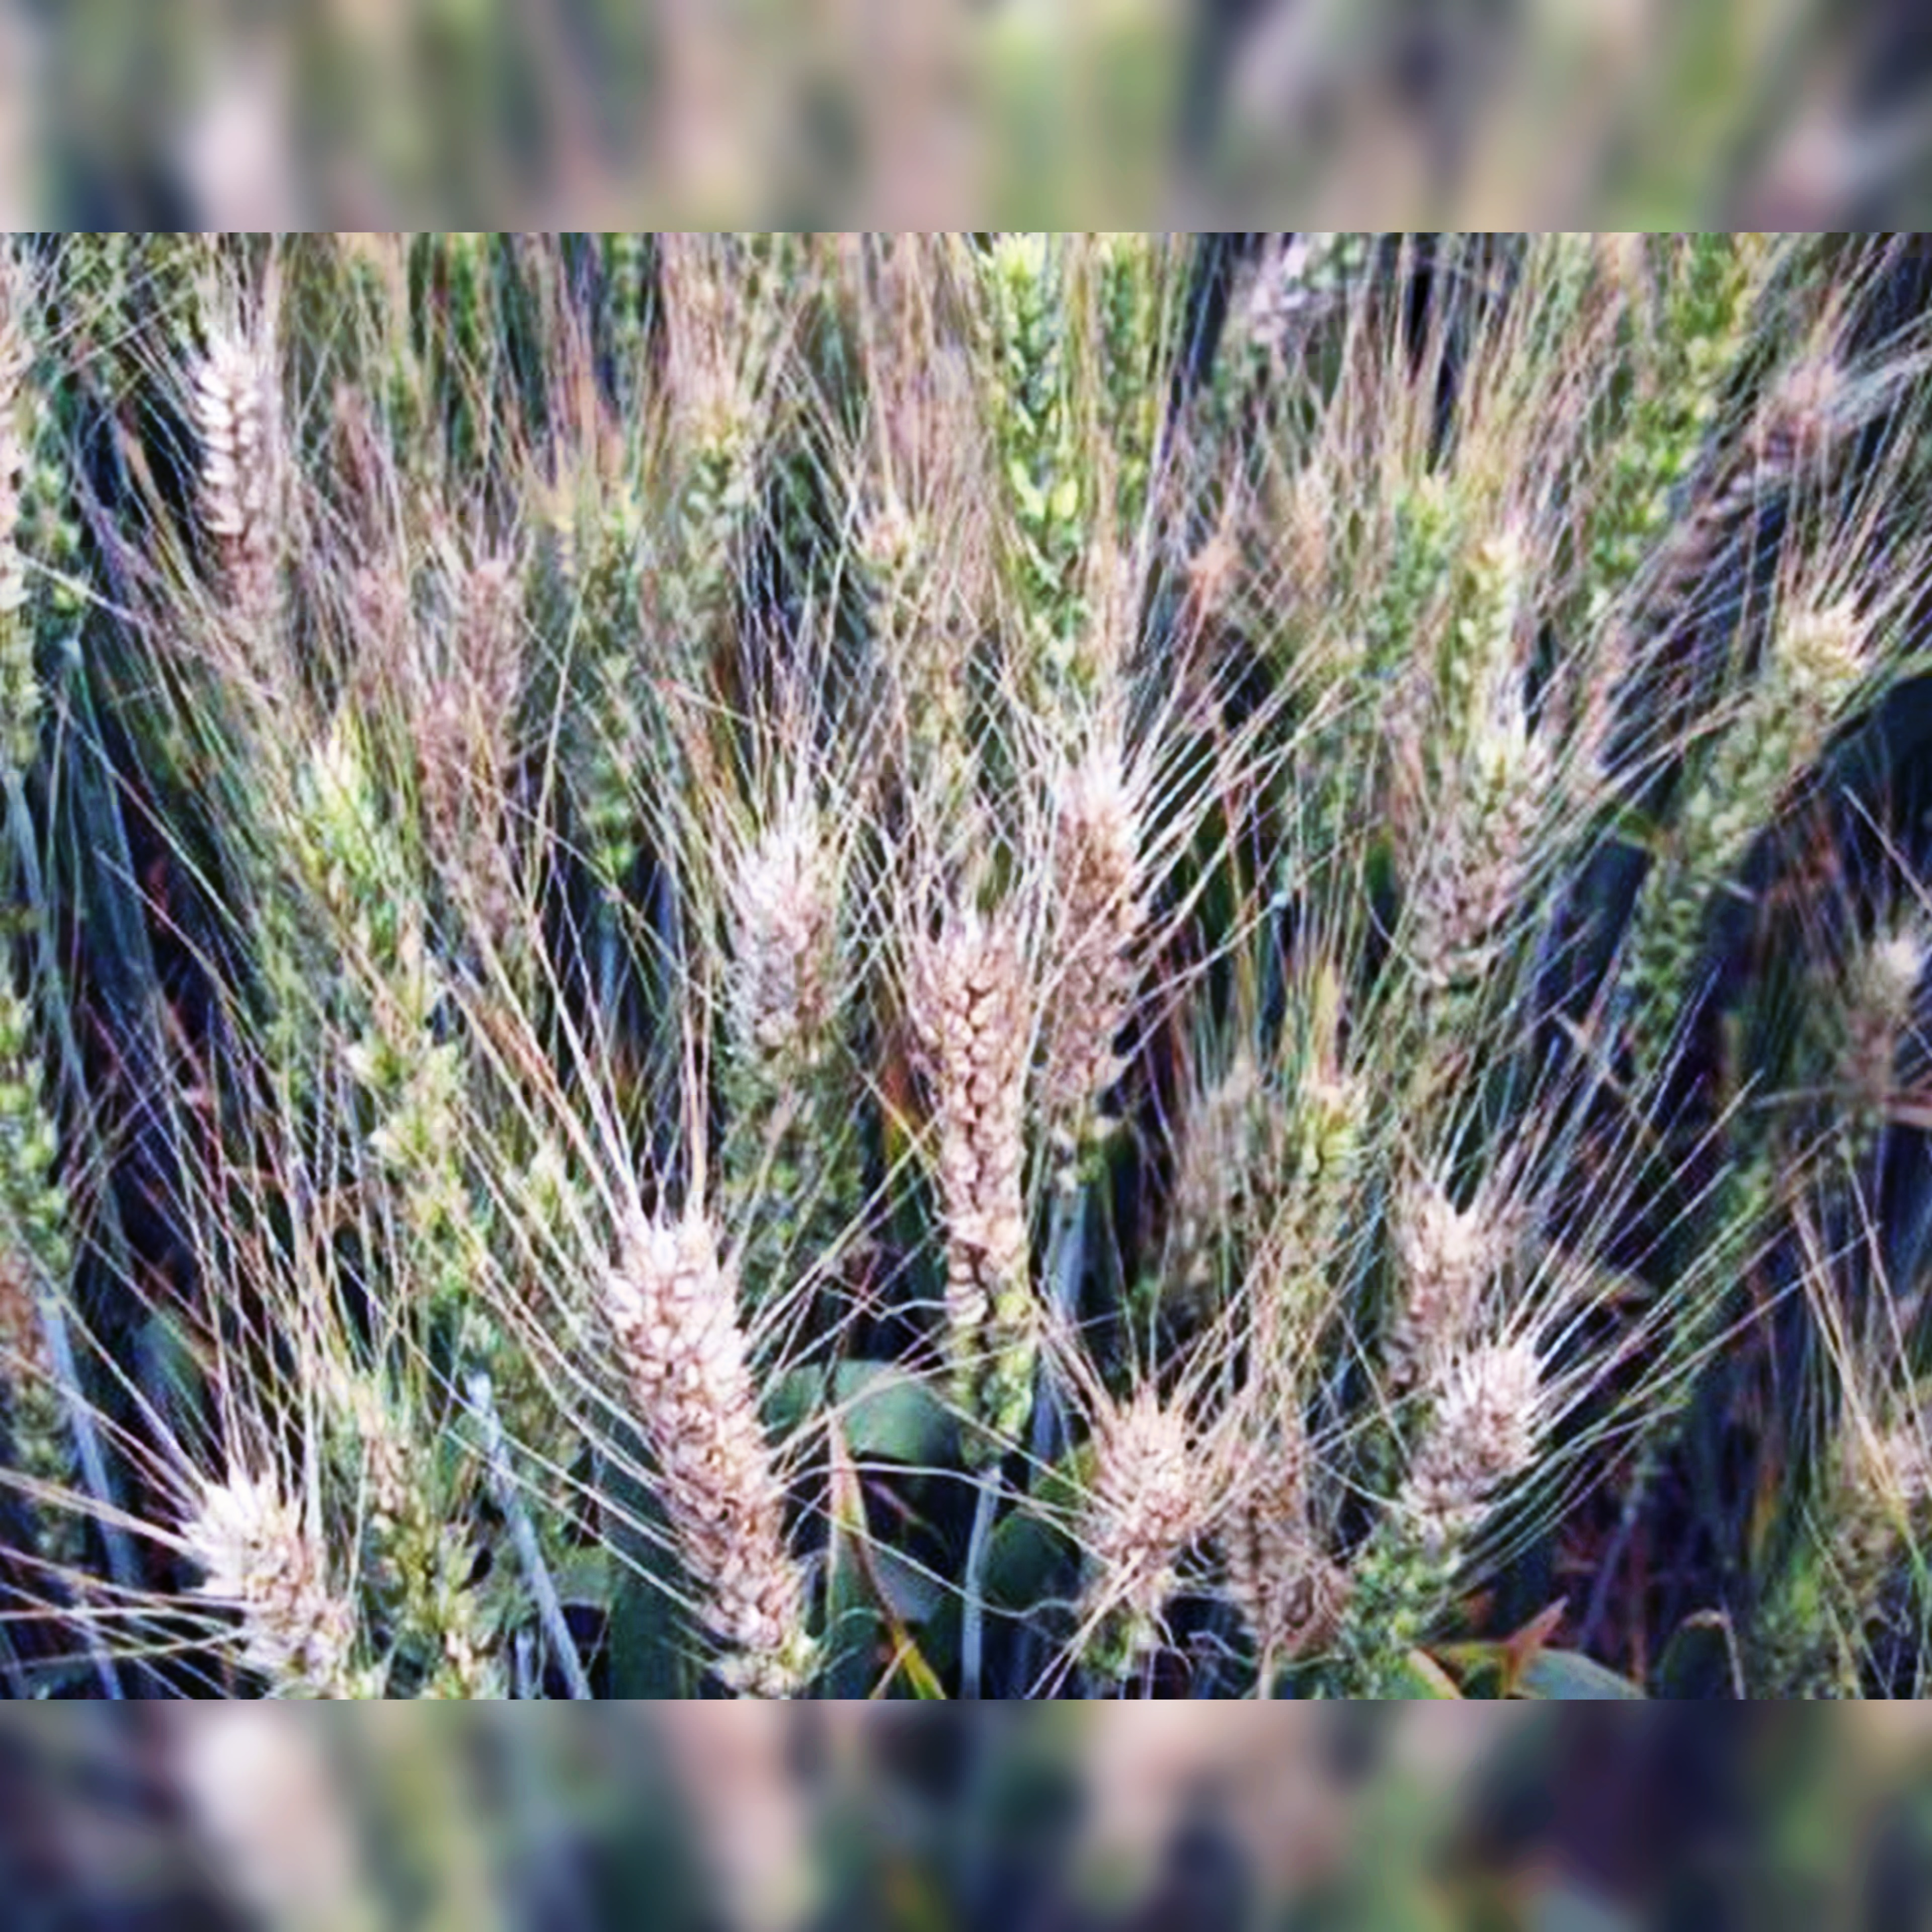Wheat scab: (464, 556, 1330, 1628)
